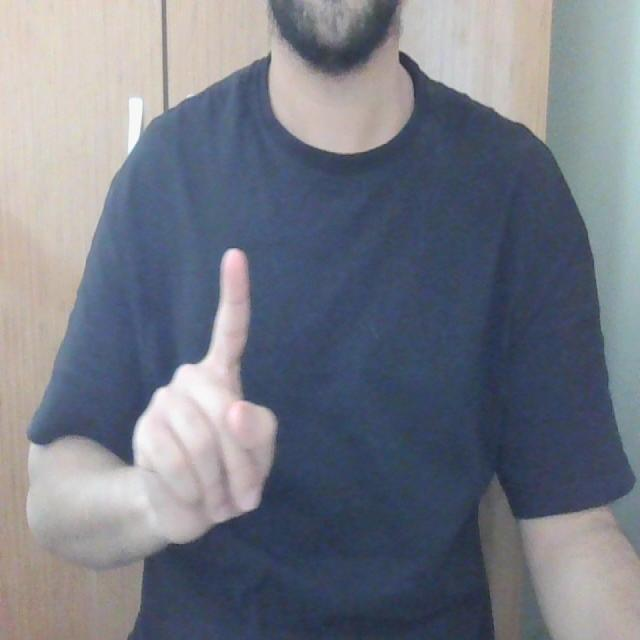Hayir: (140, 212, 297, 576)
